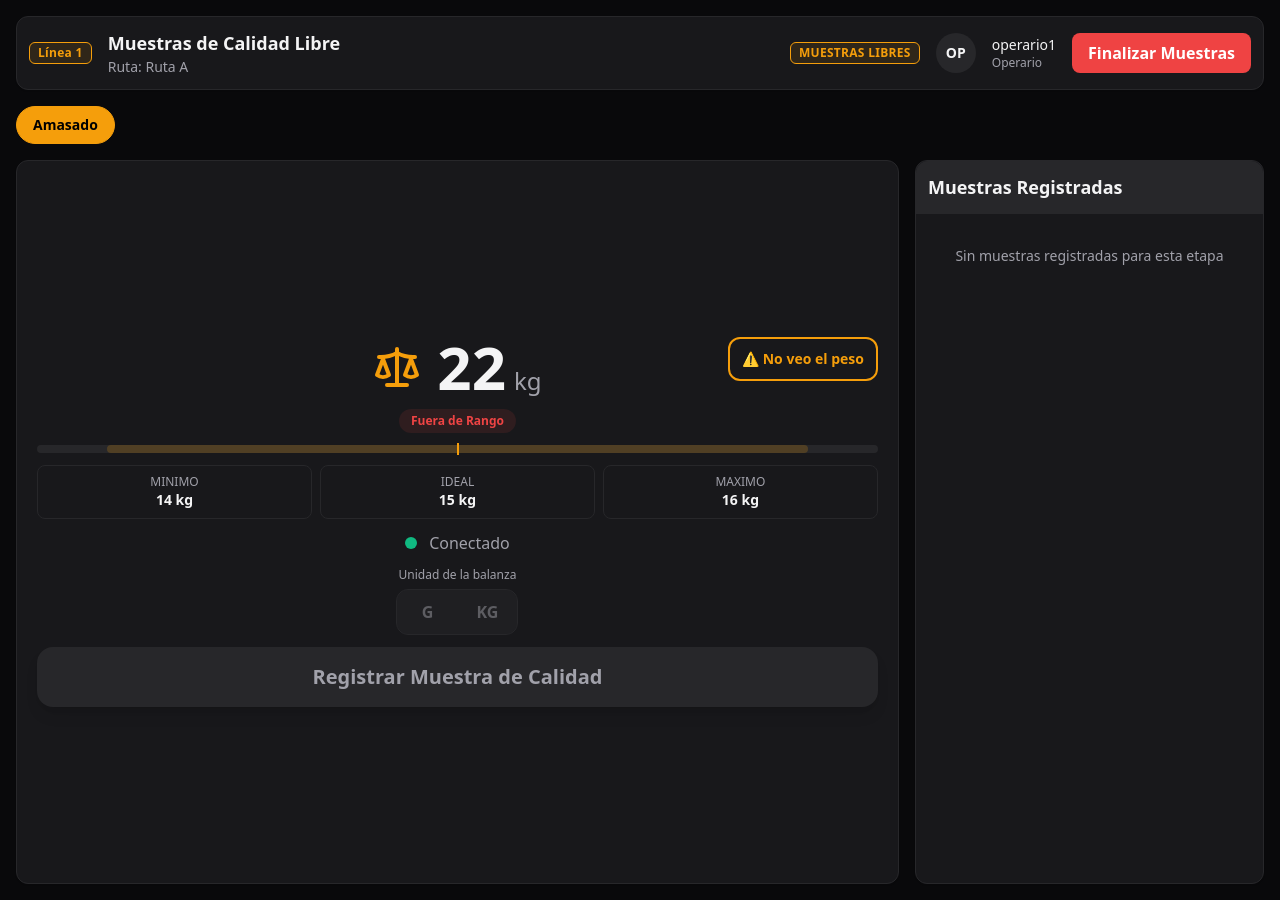
Test: MuestrasLibresPage tolerance (real hook + msw) › requests the tolerance from the backend and uses its value (12,5%) for the blocked-weight popup
This screenshot has width=1280, height=900.
Click the button "Registrar Muestra de Calidad": (457, 677) [37, 647, 878, 707]
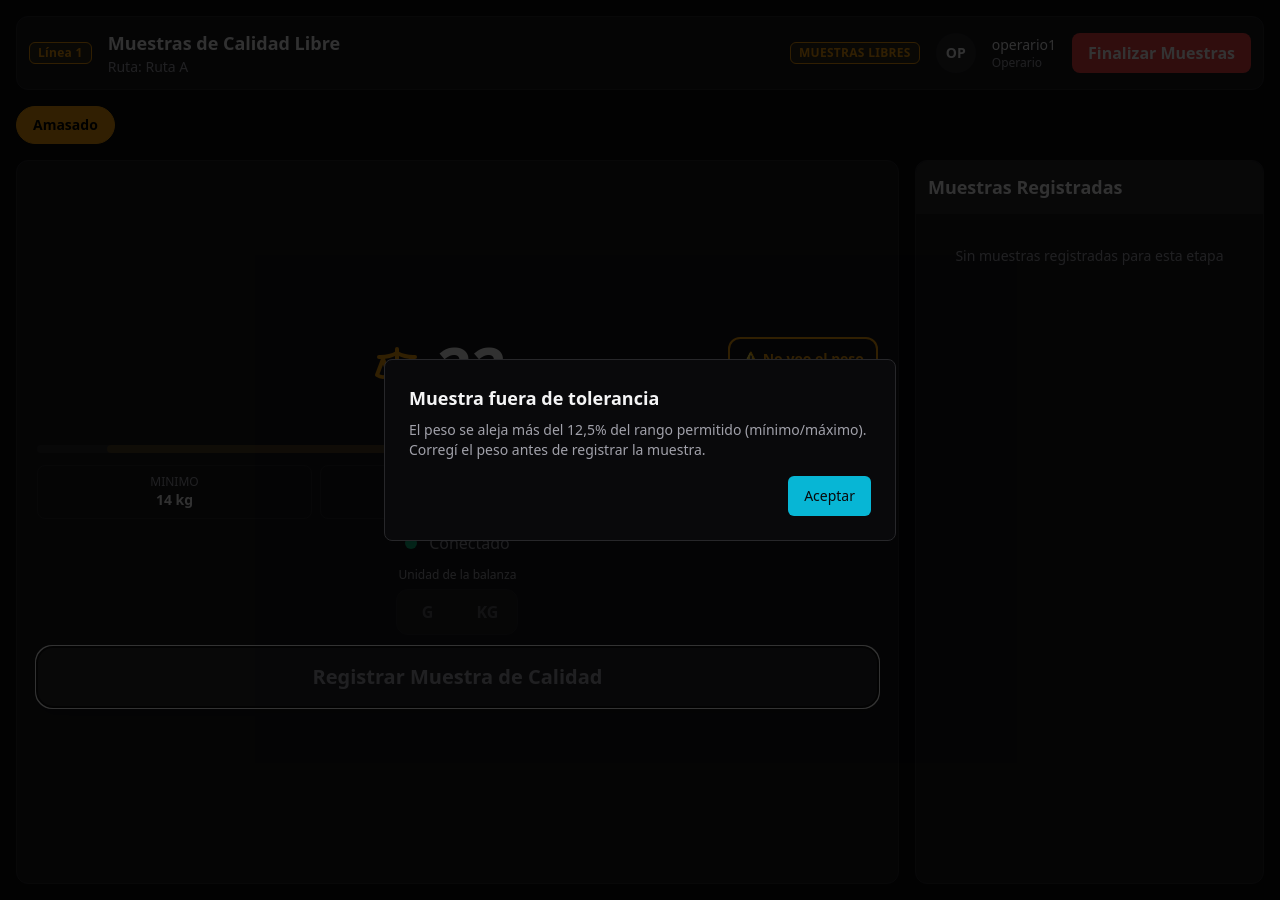
Now the text "más del 12,5% del rango permitido" is shown, box [409, 420, 866, 459]
